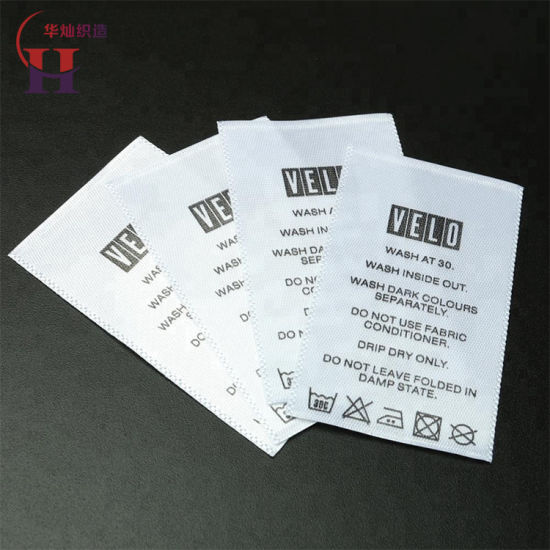do_not_bleach: (341, 393, 373, 424)
do_not_dry_clean: (447, 420, 480, 449)
